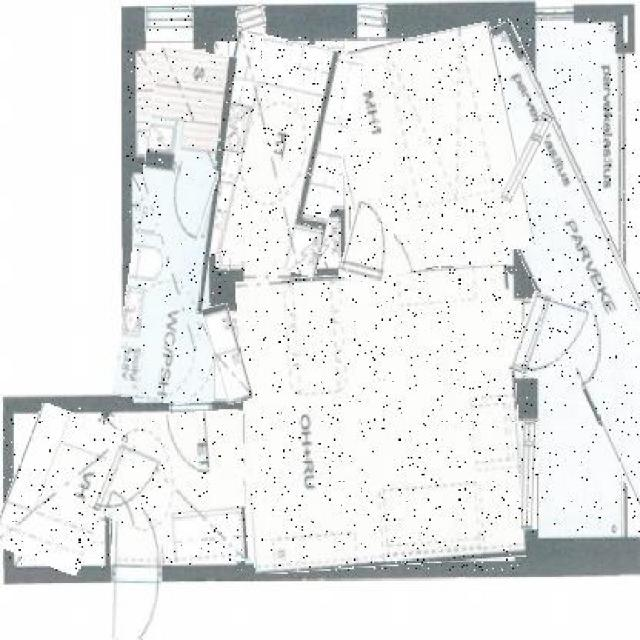door: (110, 492, 162, 640), (514, 294, 589, 384), (94, 445, 157, 523), (160, 163, 214, 243), (343, 202, 395, 284)
window: (509, 110, 545, 204), (520, 420, 538, 531), (145, 6, 192, 31), (237, 6, 266, 31), (360, 5, 388, 28)
zone: (240, 269, 522, 571), (480, 17, 640, 534), (330, 29, 524, 272), (125, 51, 226, 404), (202, 35, 352, 271), (106, 412, 245, 565), (0, 408, 117, 570), (208, 305, 246, 403)
